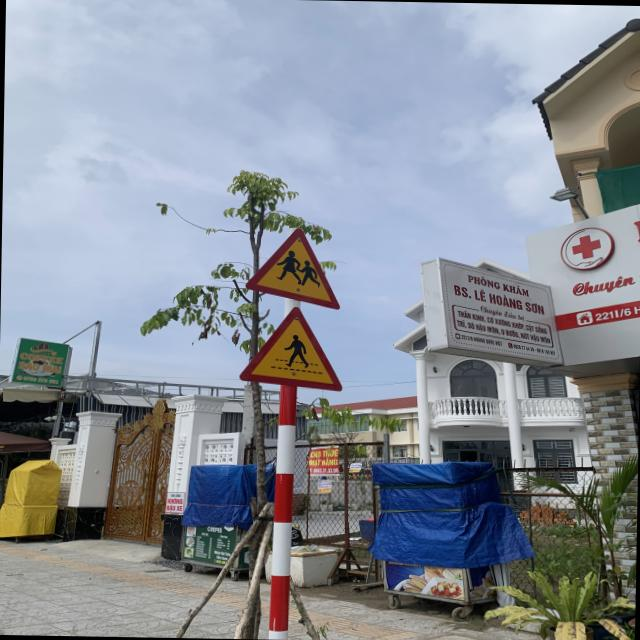Duong_Nguoi_Di_Bo_Sang_Ngang: (239, 304, 344, 392)
Vong_Xuyen: (245, 225, 341, 310)
